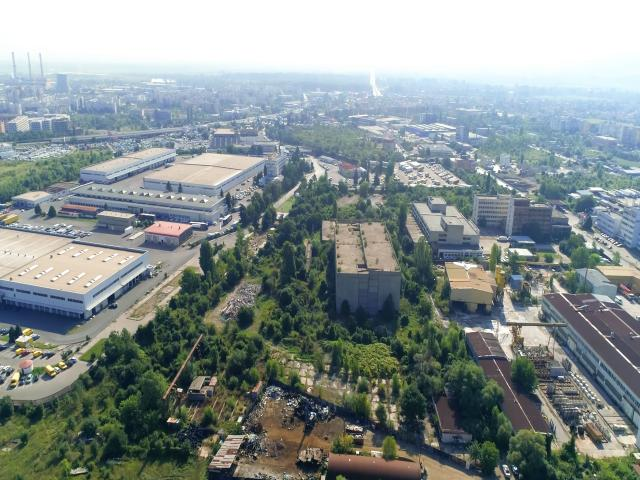plane: (453, 258, 478, 270)
